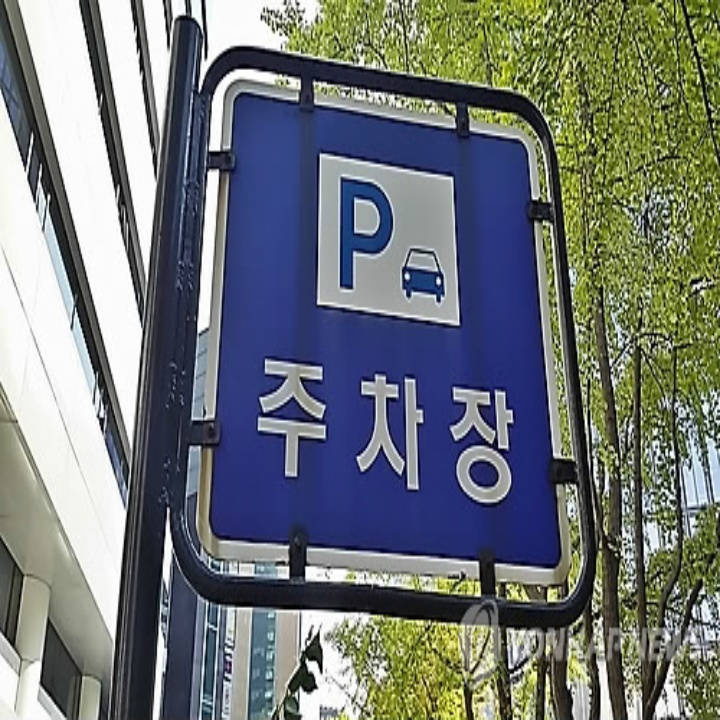park: (334, 167, 399, 301)
